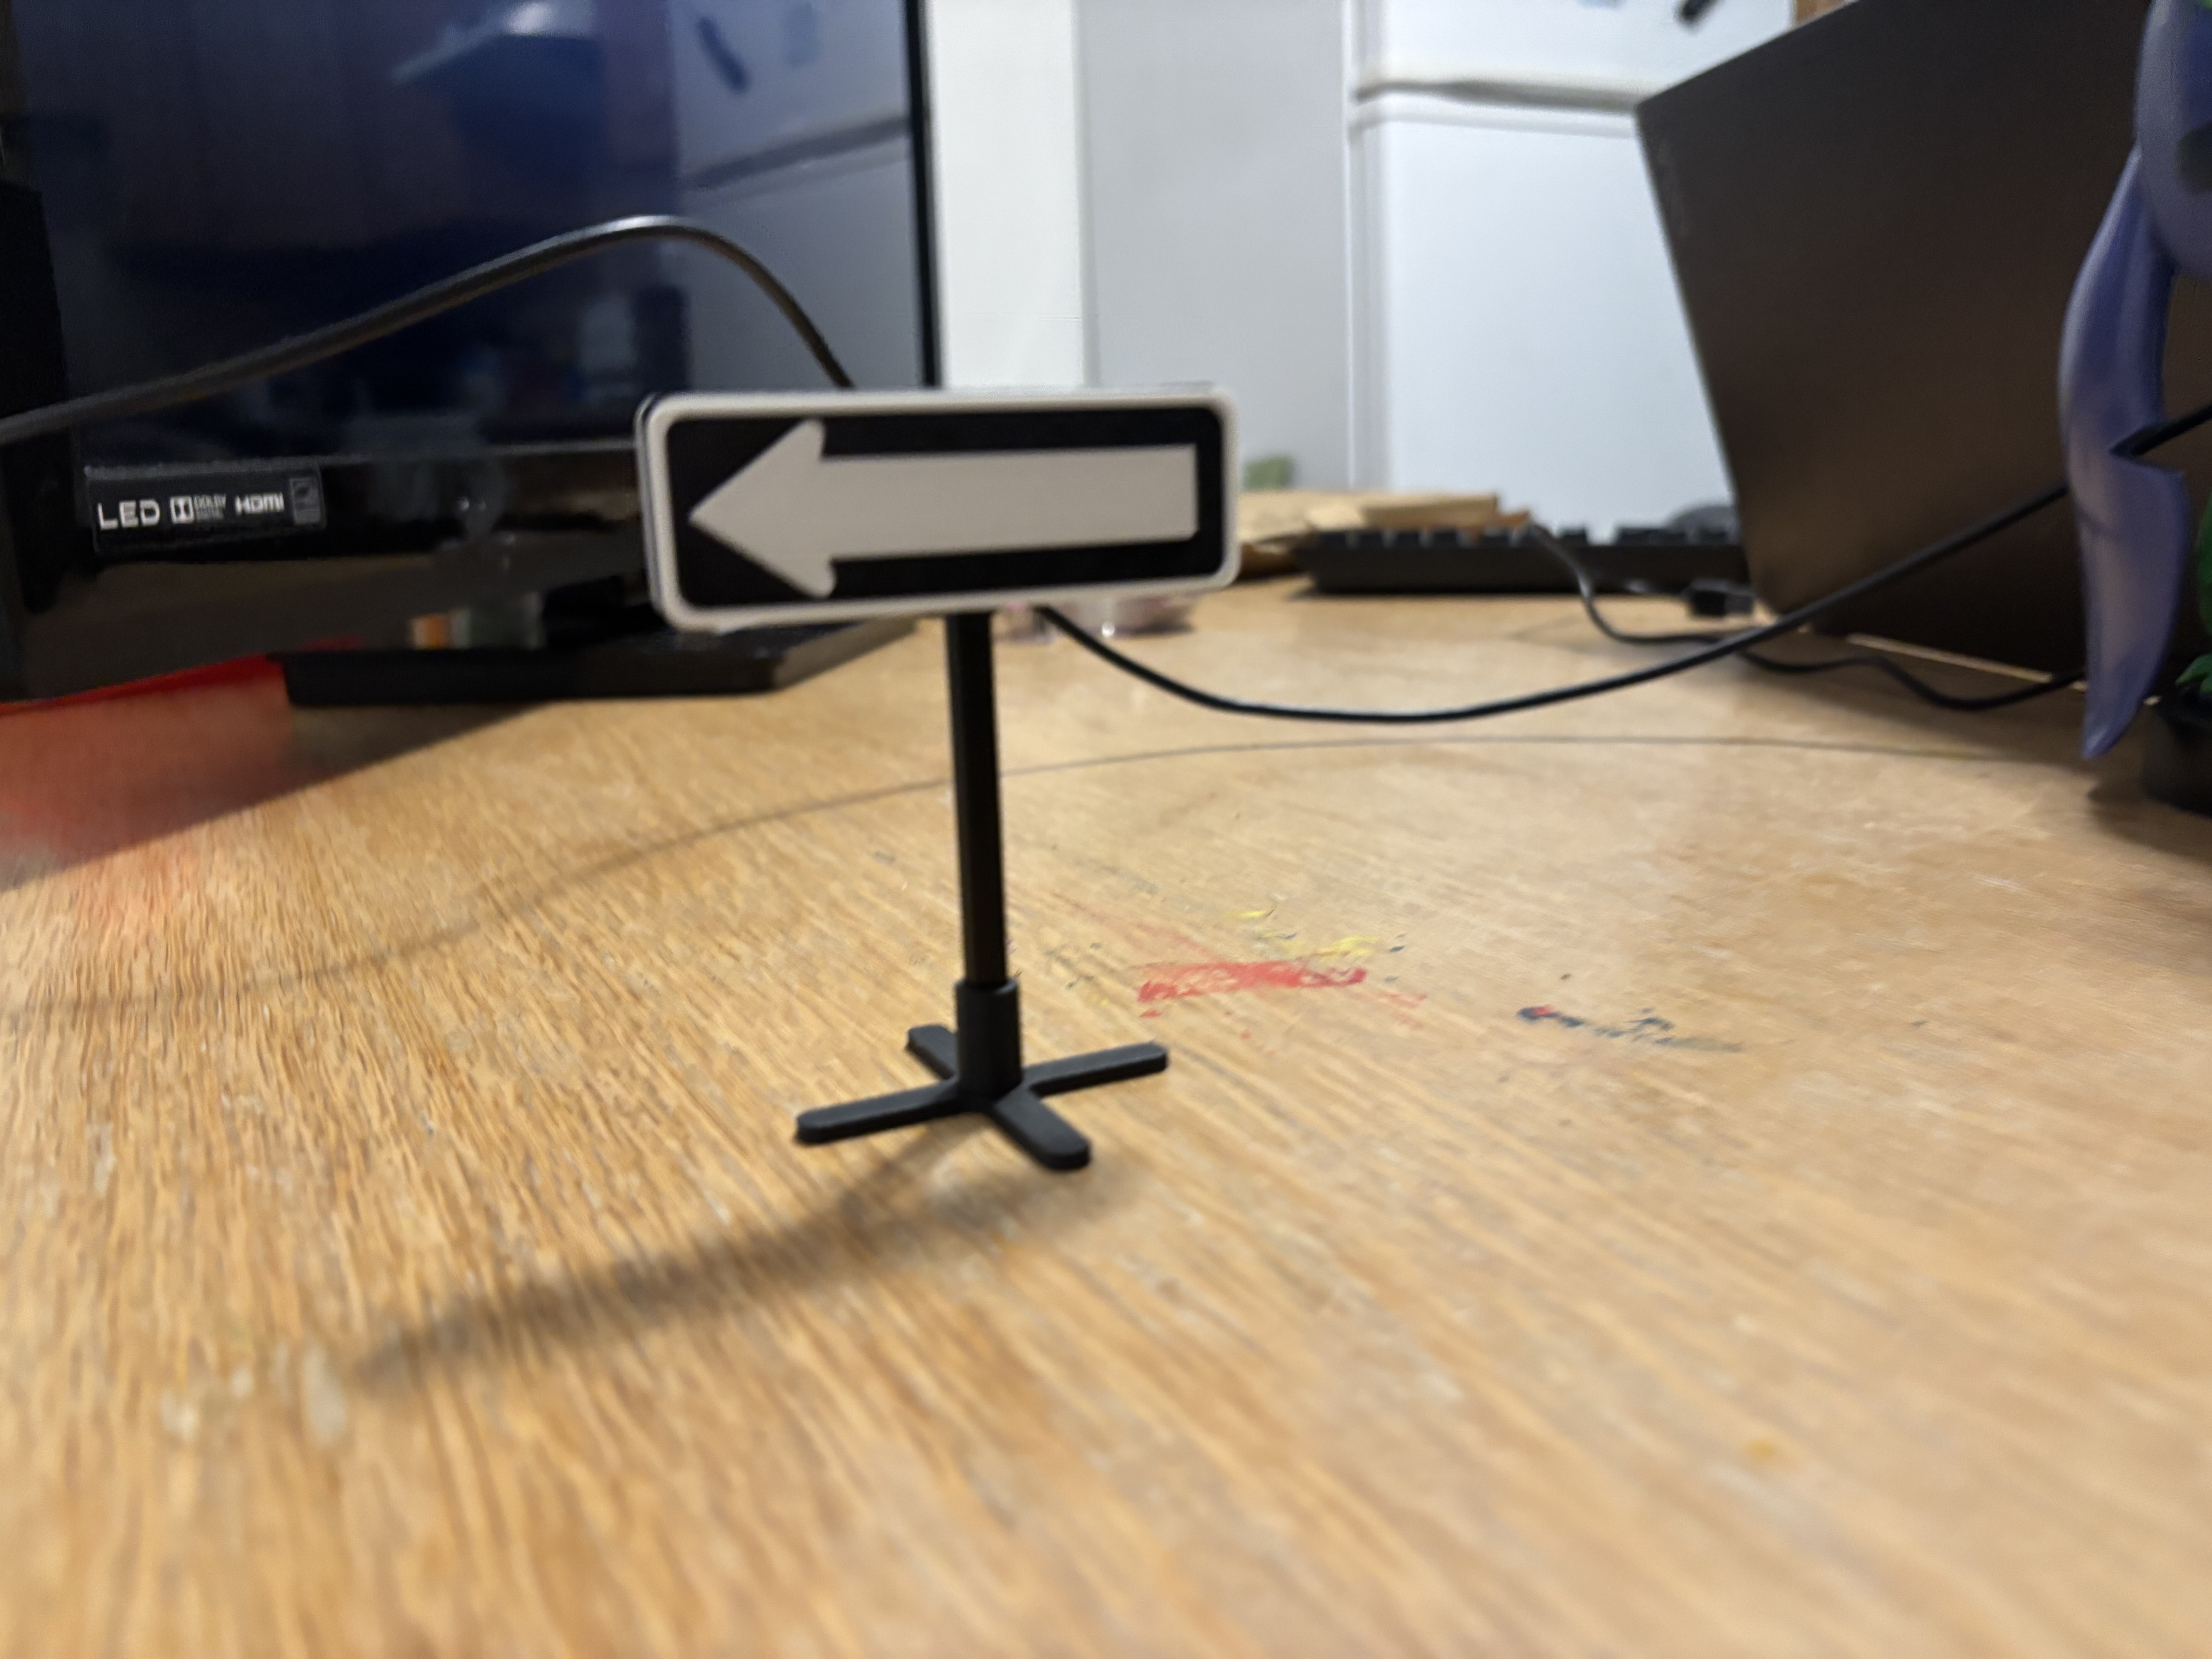sign_oneway_left: (637, 403, 1256, 603)
